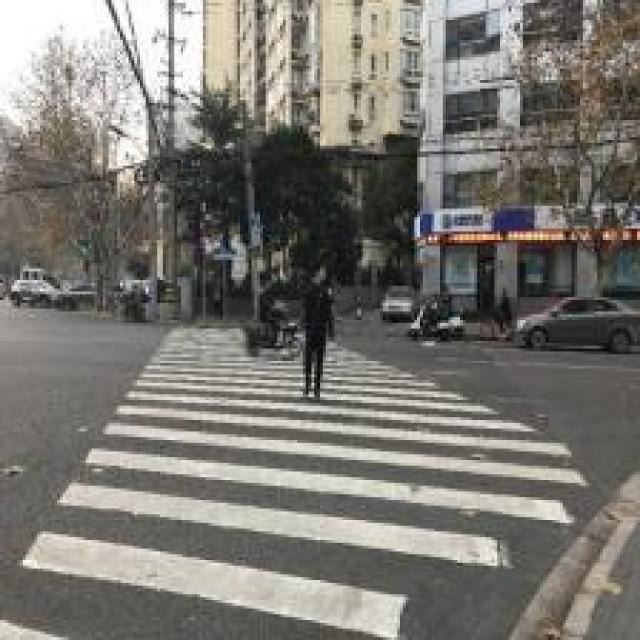walk-crossing: (153, 303, 567, 617)
